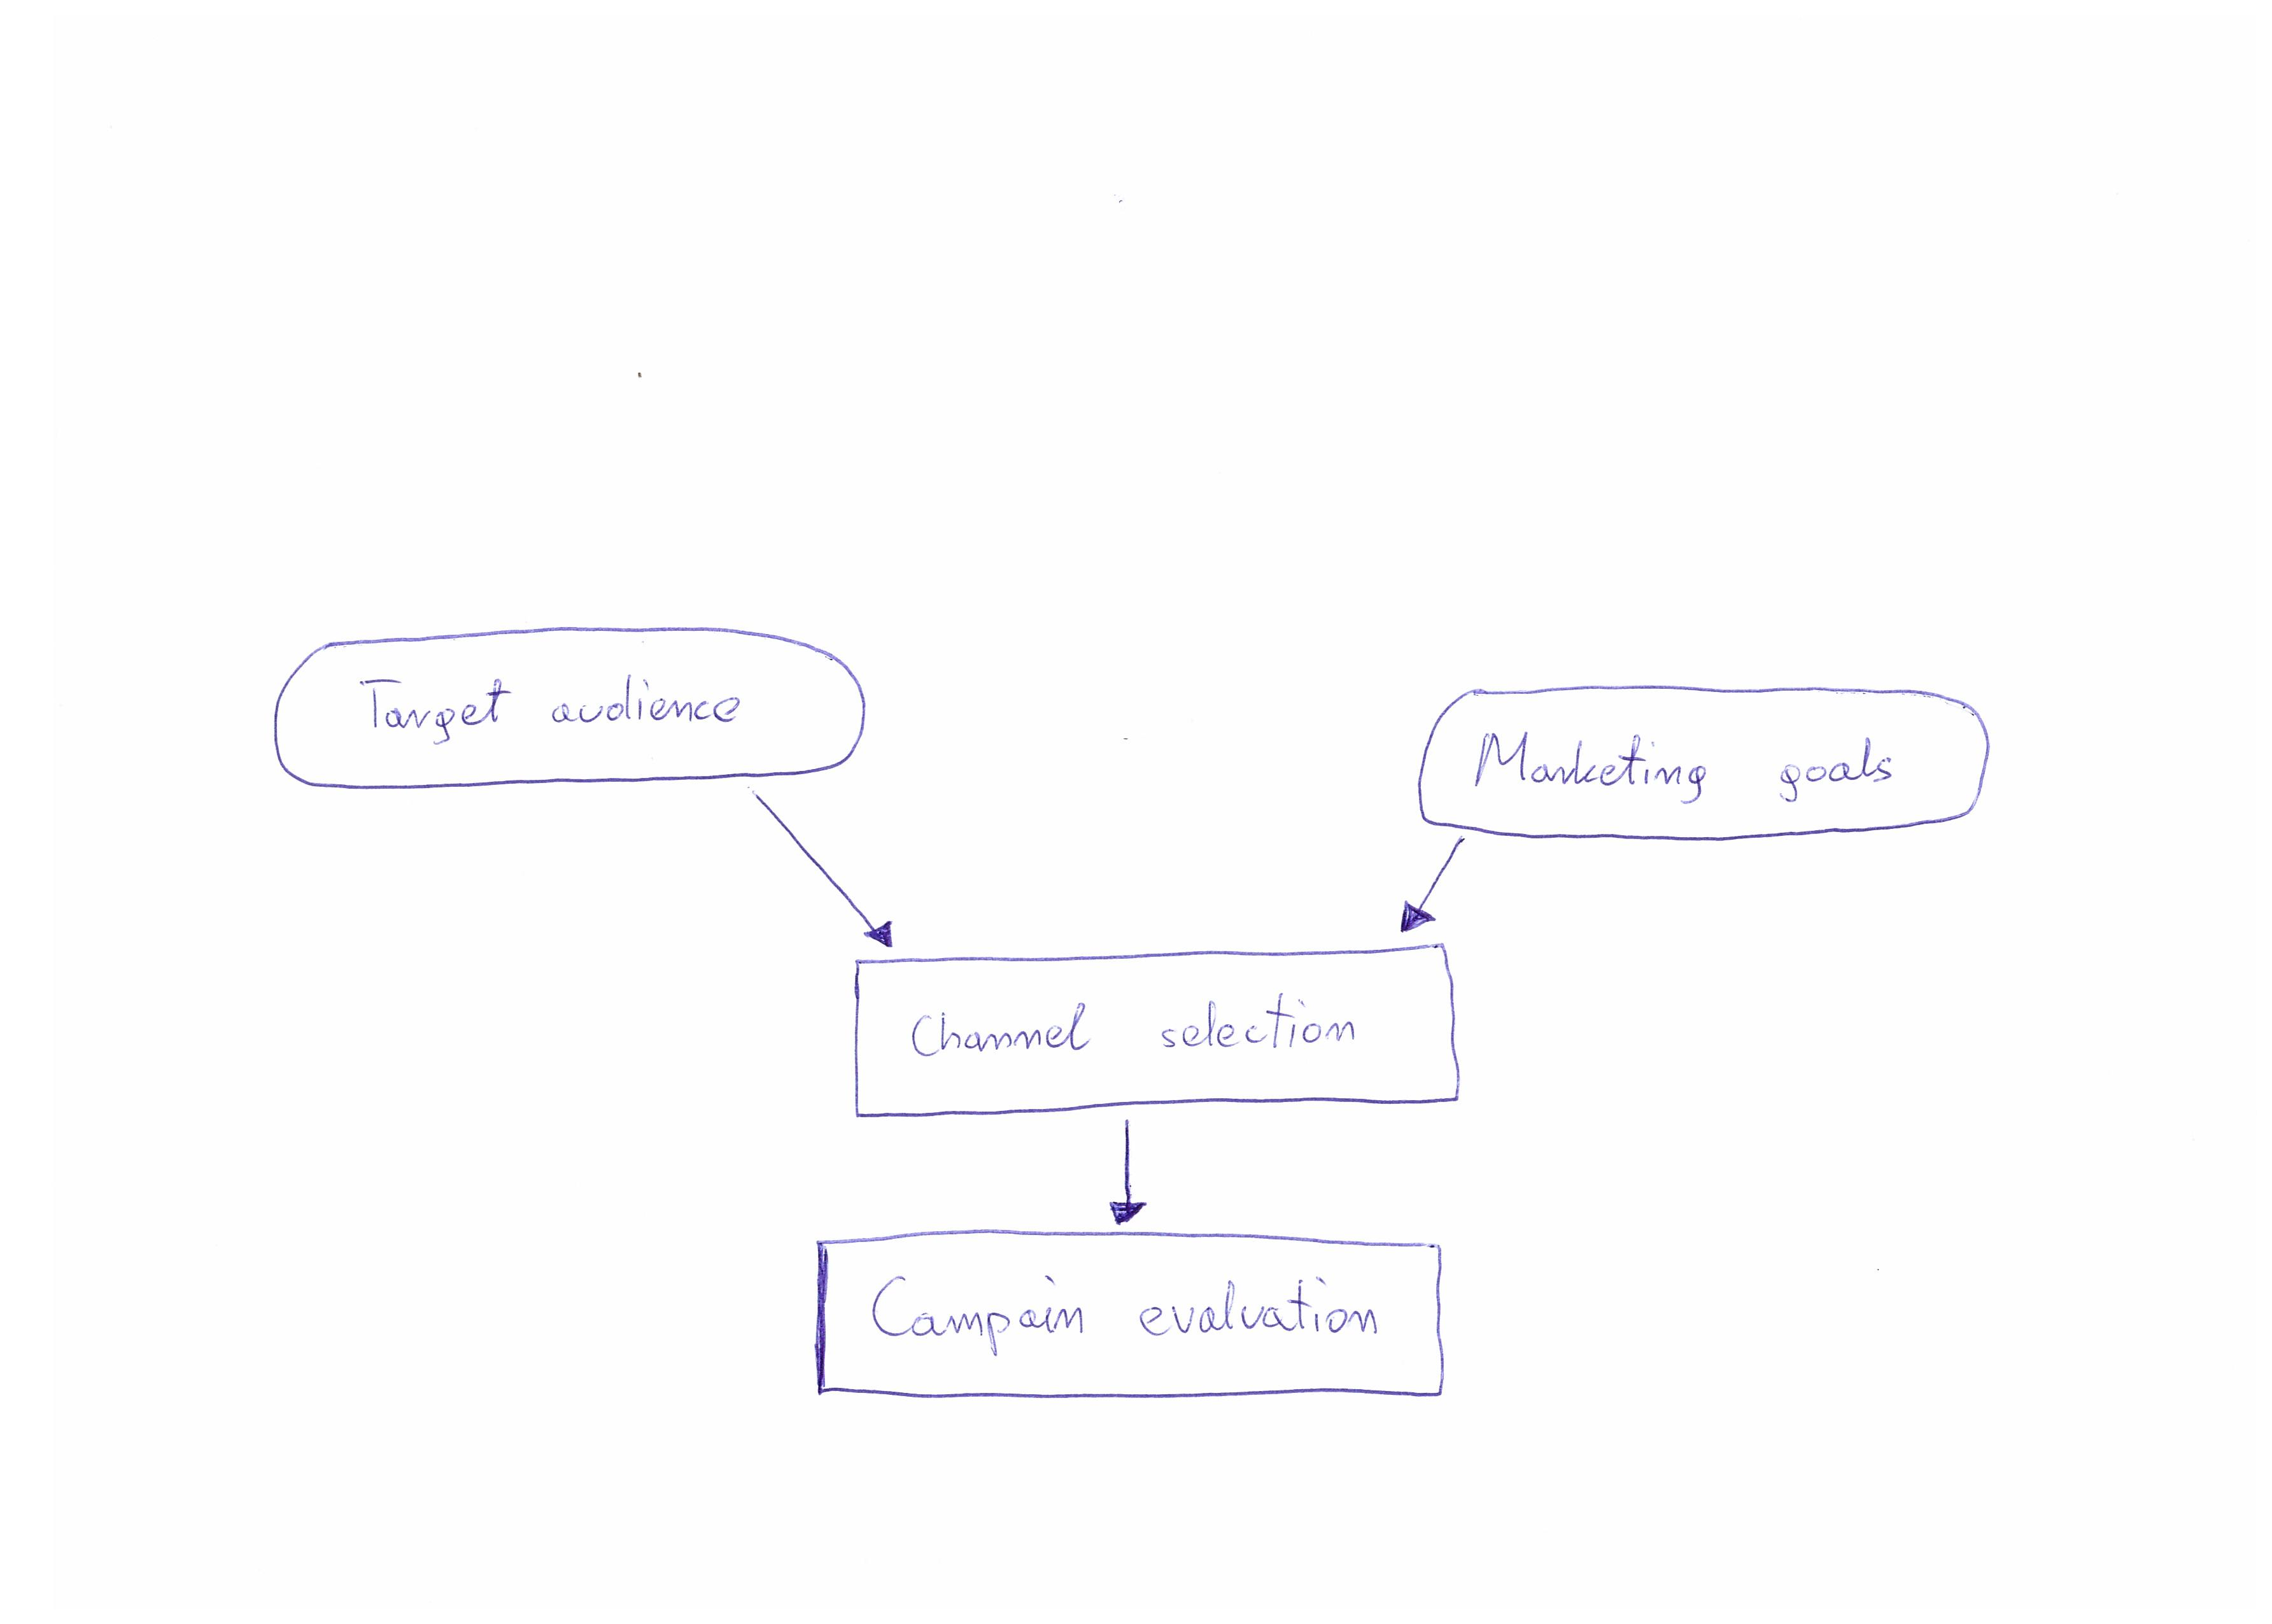arrow_information_requirement: (726, 787, 908, 954), (1378, 831, 1478, 937), (1098, 1111, 1151, 1229)
node_decision: (807, 1227, 1457, 1413), (842, 937, 1478, 1125)
node_input_data: (1407, 668, 2019, 845), (260, 619, 879, 784)
text: (859, 1258, 1407, 1366), (1467, 715, 1924, 814), (896, 986, 1386, 1072), (350, 661, 777, 758)
